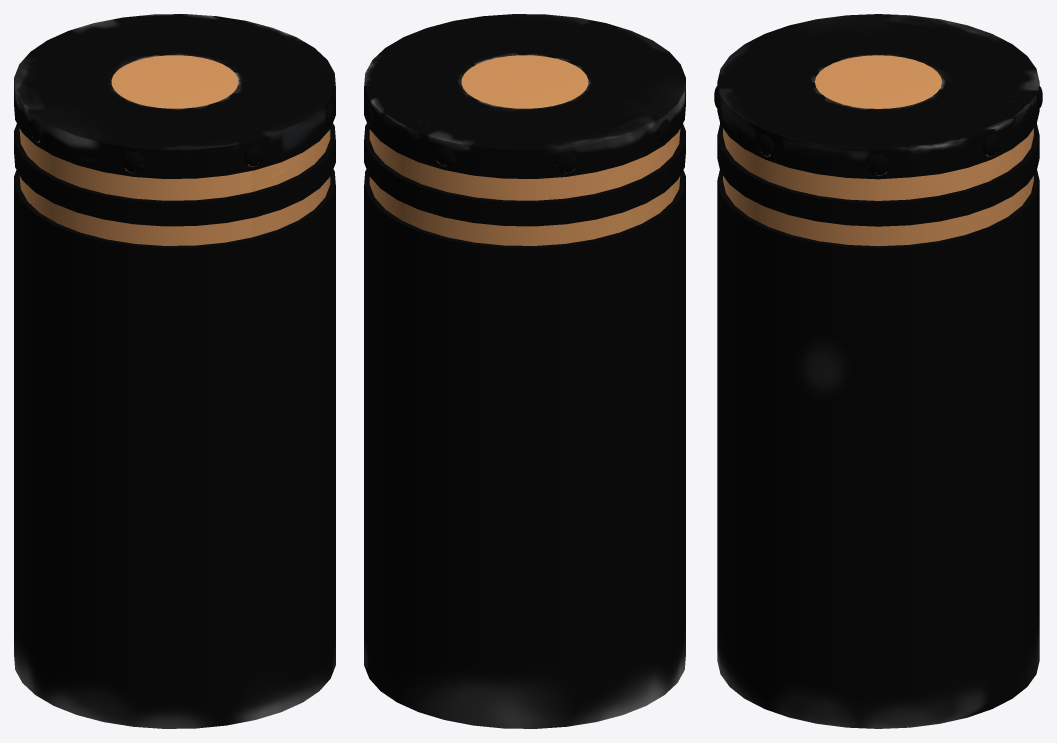
File: Paal_static.fbx
The picture shows the model from 3 angles, left to right: view 1: azimuth 30°, elevation 25°; view 2: azimuth 150°, elevation 25°; view 3: azimuth 270°, elevation 25°; orthographic projection.
Parts seen in each view (by area): view 1: Low poly, Toplight, Sidelight; view 2: Low poly, Toplight, Sidelight; view 3: Low poly, Toplight, Sidelight.
Part boxes in pixels (x1,y1,x2,y2): Low poly: (14,14,335,728); Toplight: (111,55,238,108); Sidelight: (29,102,334,173); Low poly: (364,14,685,728); Toplight: (461,55,588,108); Sidelight: (365,102,670,173); Low poly: (717,14,1039,728); Toplight: (815,55,941,108); Sidelight: (714,86,1042,175).
Size of the model in its own units: 204 by 397 by 204.
